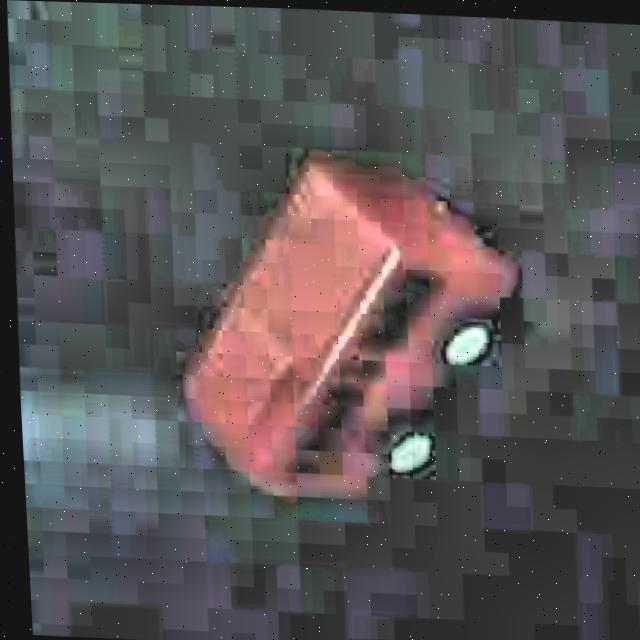bus: (164, 159, 522, 519)
